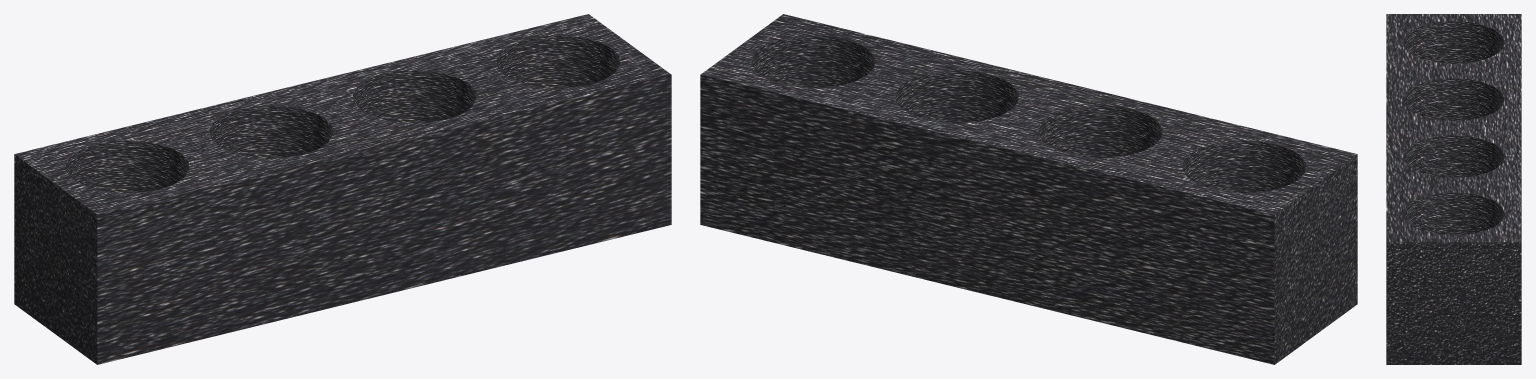
File: port_box.fbx
3 views of the same model, side by side, from view 1: azimuth 30°, elevation 25°; view 2: azimuth 150°, elevation 25°; view 3: azimuth 270°, elevation 25° (orthographic). The views are drawn at different scales.
Visible parts, largest first — view 1: pCube5; view 2: pCube5; view 3: pCube5.
Part boxes in pixels (box(x1,y1,x2,y2)): pCube5: box(14, 14, 671, 364); pCube5: box(700, 14, 1357, 364); pCube5: box(1386, 14, 1521, 364).
Bounding box in the file's own units: 8 × 2 × 2.
Materials: 1 (1 with a texture image).
